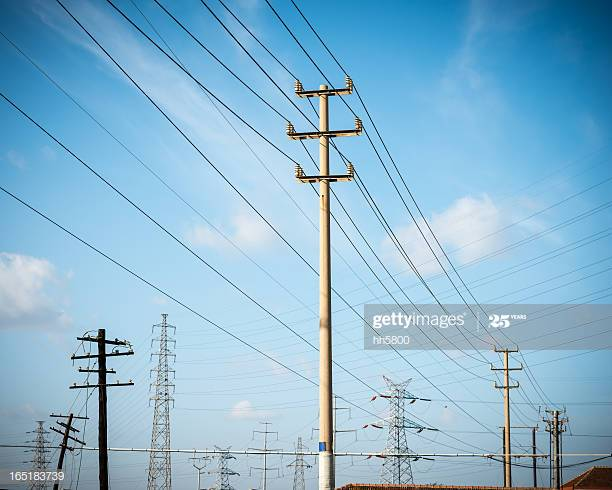utility_pole: (275, 67, 368, 193), (61, 320, 139, 400)
